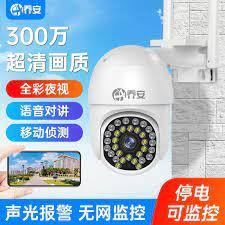maru: (84, 52, 173, 180)
